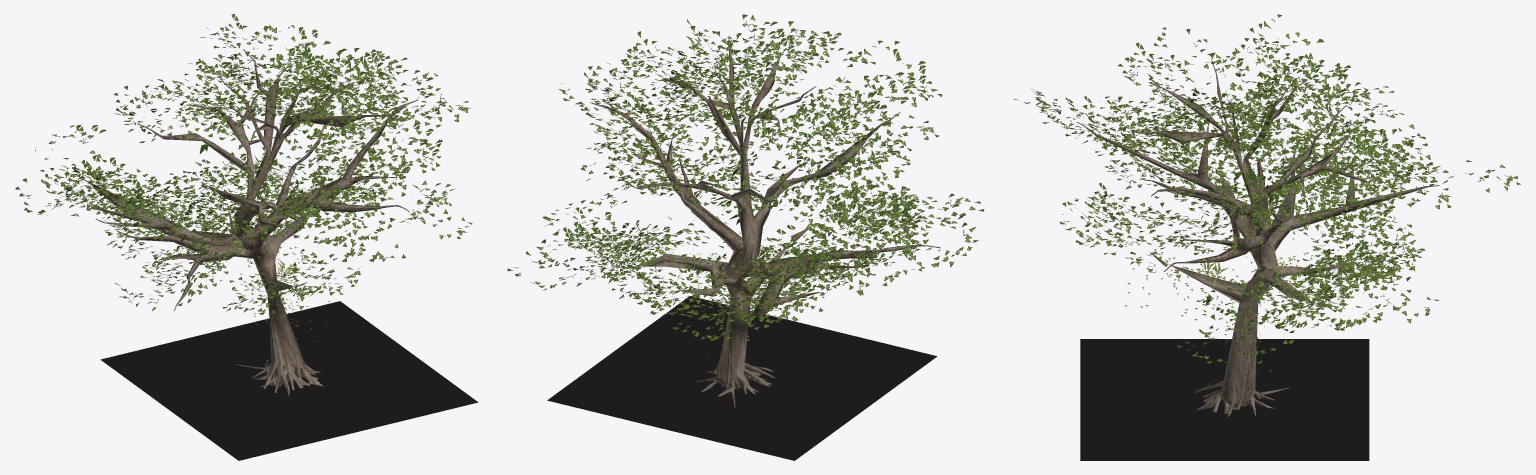
The model's file is jungle_tree_lod2.glb.
3 renders of one model, left to right at view 1: azimuth 30°, elevation 25°; view 2: azimuth 150°, elevation 25°; view 3: azimuth 270°, elevation 25°, orthographic. The views are drawn at different scales.
Bounding box in the file's own units: 31.11 × 27.28 × 33.16.
Materials: 8 (7 with a texture image).
